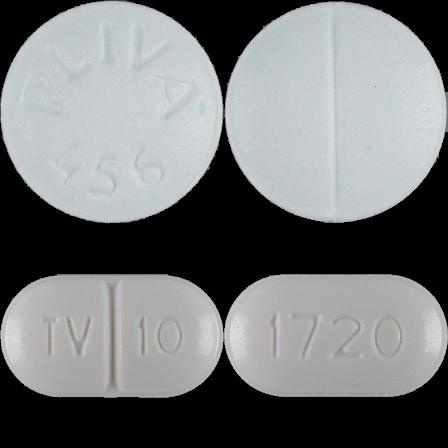63187-749: (0, 0, 224, 224)
